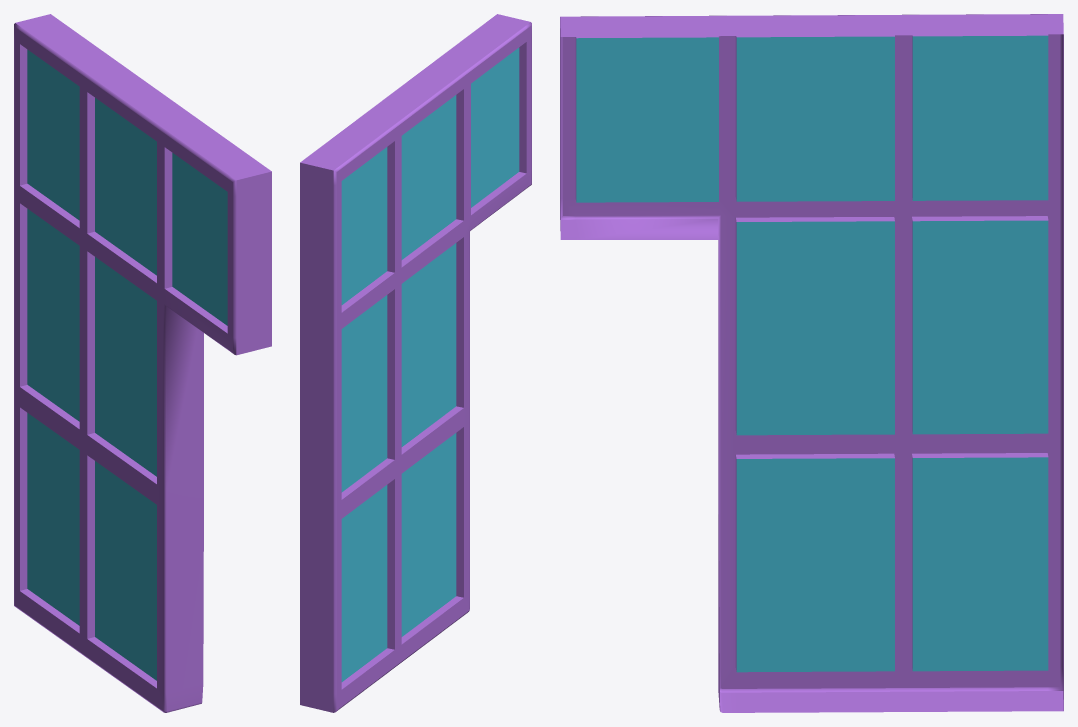
File: ventana_tipo_L.fbx
3 renders of one model, left to right at view 1: azimuth 30°, elevation 25°; view 2: azimuth 150°, elevation 25°; view 3: azimuth 270°, elevation 25°, orthographic. The views are drawn at different scales.
Parts seen in each view (by area): view 1: Ventana_tipoL; view 2: Ventana_tipoL; view 3: Ventana_tipoL.
Part boxes in pixels (<box>): Ventana_tipoL: <box>14,14,271,712</box>; Ventana_tipoL: <box>300,14,531,712</box>; Ventana_tipoL: <box>560,14,1063,712</box>.
Bounding box in the file's own units: 47.64 × 625 × 421.
